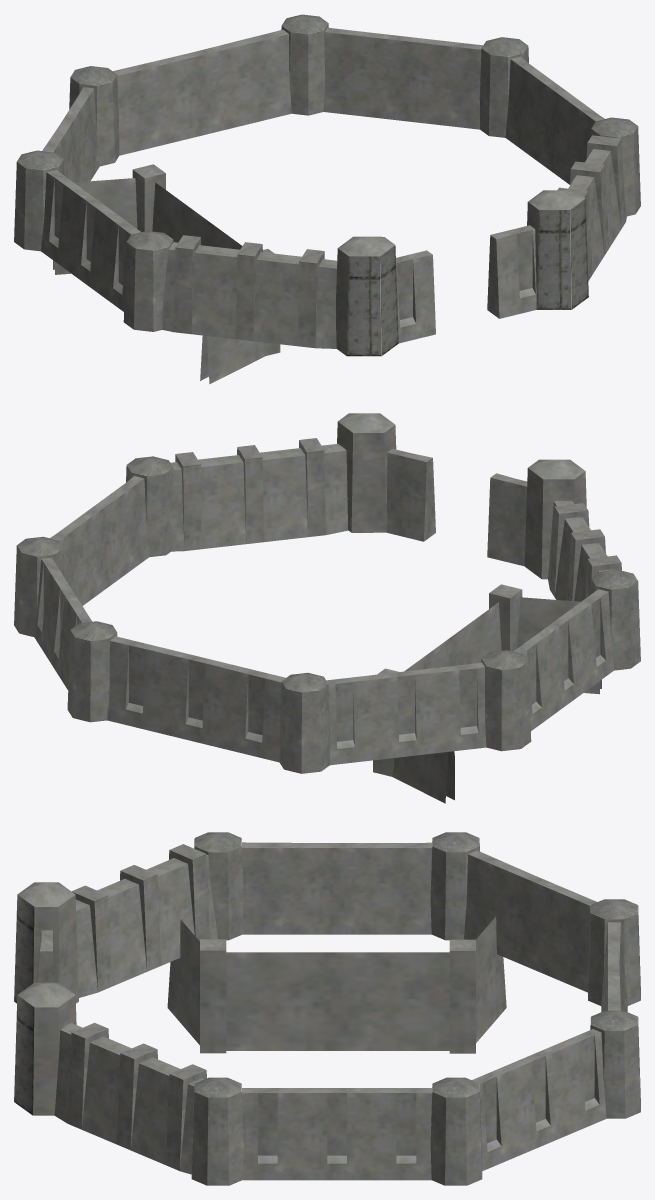
Rendered from poi_all_impl_corral_32x32_s01_l1.fbx.
3 views of the same model, one above another, from view 1: azimuth 30°, elevation 25°; view 2: azimuth 150°, elevation 25°; view 3: azimuth 270°, elevation 25° (orthographic). The views are drawn at different scales.
Parts seen in each view (by area): view 1: mesh_node; view 2: mesh_node; view 3: mesh_node.
Part boxes in pixels (x1,y1,x2,y2): mesh_node: [14, 14, 640, 384]; mesh_node: [14, 413, 640, 803]; mesh_node: [14, 832, 640, 1185].
Size of the model in its own units: 24.01 by 7.4 by 23.73.
Materials: 1 (1 with a texture image).
